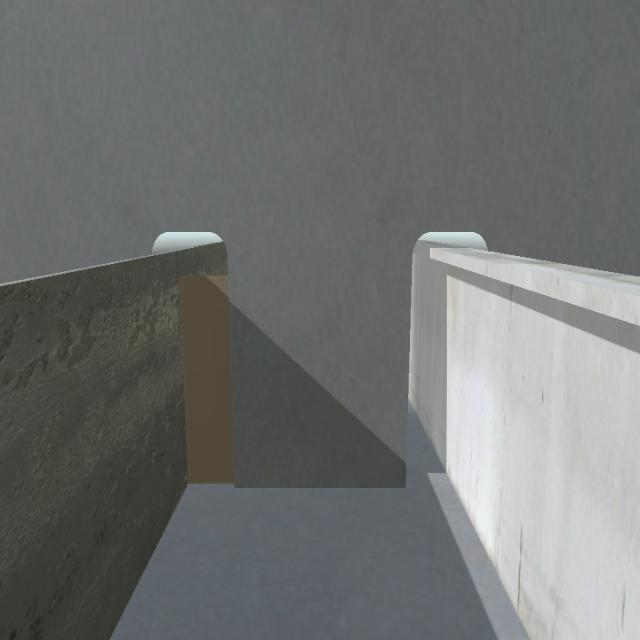fillet_yong_jeop_jang: (185, 473, 413, 494)
longi_yong_jeop_jang: (176, 268, 195, 490)
plate_behind: (181, 274, 237, 482)
